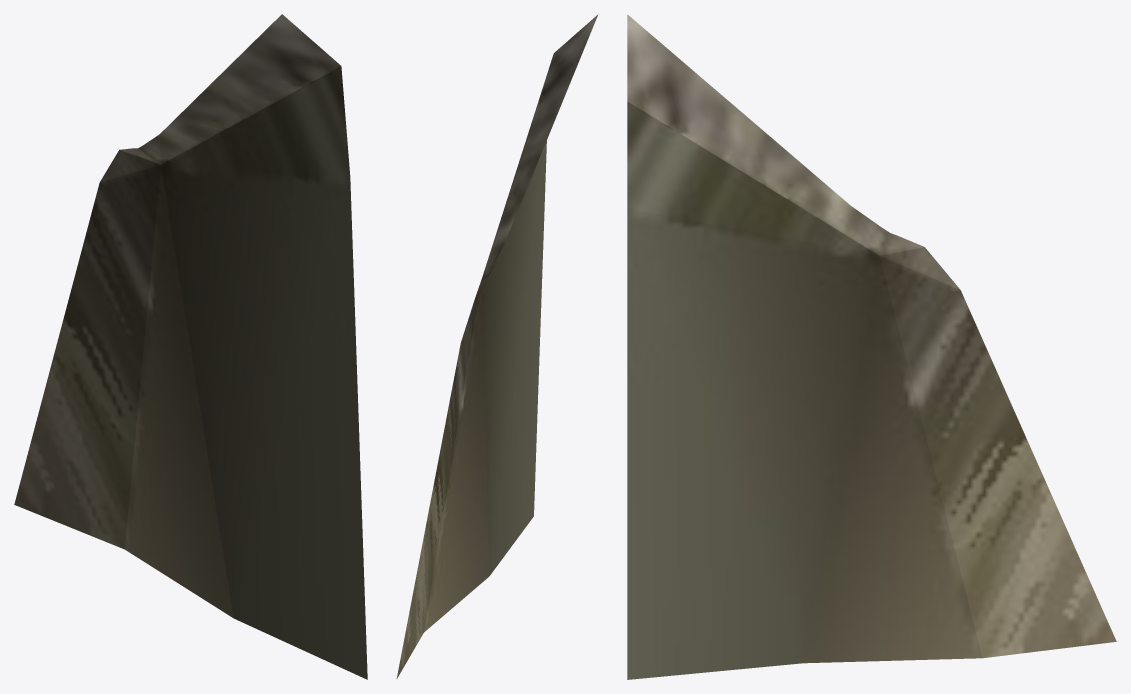
The picture shows the model from 3 angles, left to right: view 1: azimuth 30°, elevation 25°; view 2: azimuth 150°, elevation 25°; view 3: azimuth 270°, elevation 25°; orthographic projection. The views are drawn at different scales.
Size of the model in its own units: 0.2022 by 1.55 by 1.1.
1 material, 1 textured.
